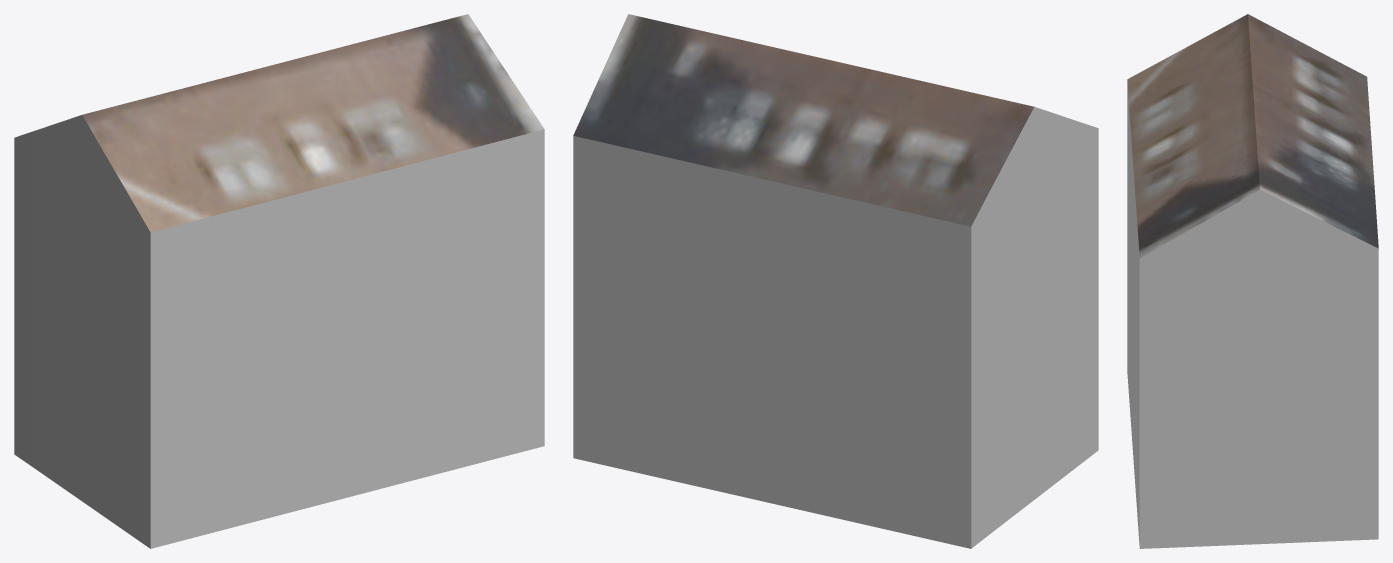
The model's file is DEBW_0010007TxiQ.gltf.
3 views of the same model, side by side, from view 1: azimuth 30°, elevation 25°; view 2: azimuth 150°, elevation 25°; view 3: azimuth 270°, elevation 25° (orthographic). The views are drawn at different scales.
Parts seen in each view (by area): view 1: Z_UP; view 2: Z_UP; view 3: Z_UP.
Boxes of the visible parts, x1=… form: Z_UP: x1=14, y1=14, x2=544, y2=548; Z_UP: x1=573, y1=14, x2=1098, y2=548; Z_UP: x1=1127, y1=14, x2=1378, y2=548.
Bounding box in the file's own units: 18.82 × 17.12 × 11.01.
Materials: 2 (1 with a texture image).
